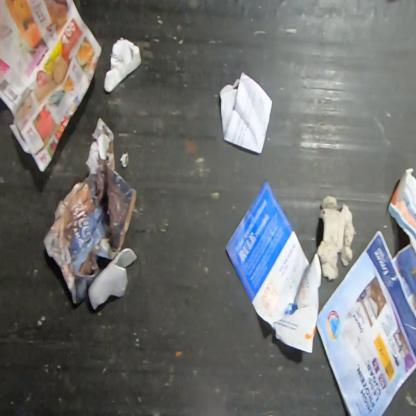cardboard: (102, 36, 143, 94)
